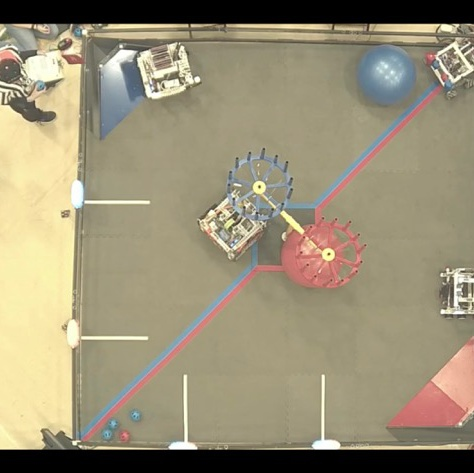blueball: (106, 415, 120, 430), (128, 410, 143, 422), (101, 427, 113, 441)
redball: (118, 429, 131, 442)
robot: (196, 188, 272, 263), (136, 38, 202, 103), (425, 38, 472, 101), (437, 263, 473, 320)
yogaball: (280, 220, 346, 290), (358, 44, 415, 99)
